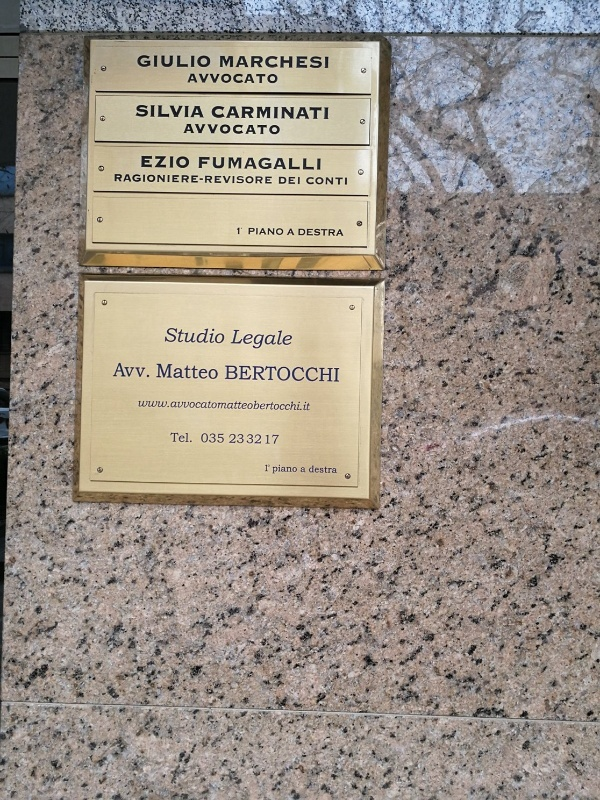text: (241, 326, 256, 353), (257, 326, 272, 353), (273, 326, 288, 353), (161, 361, 176, 381), (177, 361, 192, 381), (193, 361, 208, 381), (177, 325, 192, 345), (193, 325, 208, 345), (209, 325, 224, 345), (225, 365, 240, 383), (241, 365, 256, 383), (257, 365, 272, 383), (273, 365, 288, 383), (289, 365, 304, 383), (305, 365, 320, 383), (321, 365, 336, 383), (129, 362, 144, 379), (145, 155, 160, 170), (161, 155, 176, 170), (177, 155, 192, 170), (305, 156, 321, 170), (209, 361, 220, 381), (145, 54, 160, 68), (161, 54, 176, 68), (177, 54, 192, 68), (193, 54, 208, 68), (145, 104, 160, 118), (161, 104, 176, 118), (177, 104, 192, 118), (225, 55, 240, 69), (241, 55, 256, 69), (257, 55, 272, 69), (273, 55, 288, 69), (289, 55, 304, 69), (305, 55, 320, 69), (209, 156, 224, 170), (225, 156, 240, 170), (241, 156, 256, 170), (257, 156, 272, 170), (273, 156, 288, 170), (289, 156, 304, 170), (145, 398, 160, 412), (161, 398, 176, 412), (177, 398, 192, 412), (193, 398, 208, 412), (209, 398, 224, 412), (225, 398, 240, 412), (241, 398, 256, 412), (257, 398, 272, 412), (273, 398, 288, 412), (289, 398, 304, 412), (225, 106, 240, 119), (241, 106, 256, 119), (257, 106, 272, 119), (273, 106, 288, 119), (289, 106, 304, 119), (305, 106, 320, 119), (177, 431, 192, 443), (167, 325, 176, 345), (209, 433, 225, 444), (193, 124, 208, 135), (209, 124, 224, 135), (225, 124, 240, 135), (241, 124, 256, 135), (257, 124, 272, 135), (234, 326, 240, 353), (212, 106, 224, 119), (193, 104, 204, 118), (119, 362, 128, 379), (145, 175, 160, 185), (161, 175, 176, 185), (177, 175, 192, 185), (193, 175, 208, 185), (209, 175, 224, 185), (225, 175, 240, 185), (241, 175, 256, 185), (257, 175, 272, 185), (193, 74, 208, 84), (209, 74, 224, 84), (225, 74, 240, 84), (241, 74, 256, 84), (257, 74, 272, 84), (305, 176, 320, 186), (321, 176, 336, 186), (274, 464, 288, 474), (321, 465, 336, 474), (289, 326, 294, 353), (199, 156, 208, 170), (257, 227, 272, 235), (305, 228, 320, 236), (321, 228, 336, 236), (230, 432, 240, 444), (133, 175, 144, 185), (289, 176, 300, 186), (321, 106, 329, 119), (145, 362, 151, 379), (337, 176, 347, 186), (247, 434, 256, 445), (137, 54, 144, 68), (137, 104, 144, 118), (321, 55, 328, 69), (290, 228, 304, 235), (305, 398, 312, 412), (273, 227, 285, 235), (310, 465, 320, 474), (289, 464, 298, 474), (273, 124, 281, 135), (273, 434, 280, 446), (280, 176, 288, 186), (266, 434, 272, 446), (273, 74, 280, 84), (139, 398, 144, 412), (202, 433, 208, 444), (265, 464, 272, 473), (171, 431, 176, 443), (157, 361, 160, 381), (220, 55, 224, 69), (249, 227, 256, 235), (337, 228, 344, 236), (187, 124, 192, 135), (257, 434, 262, 445), (337, 365, 340, 383), (141, 155, 144, 170), (209, 54, 212, 68), (299, 228, 304, 236), (241, 432, 244, 444), (301, 467, 304, 474), (190, 74, 192, 84), (225, 325, 226, 345), (238, 226, 240, 235), (337, 465, 338, 474), (305, 467, 306, 474)
